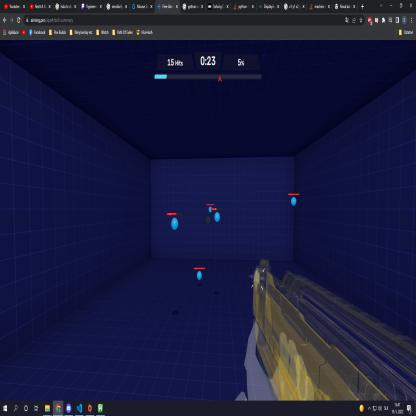sphere: (171, 217, 179, 231), (214, 211, 221, 224), (197, 270, 202, 281), (290, 197, 296, 206), (209, 206, 212, 213)
